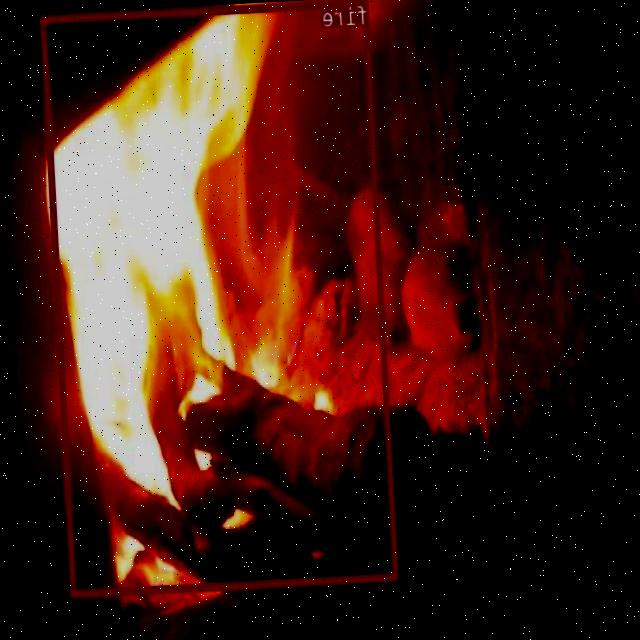fire: (41, 0, 400, 595)
